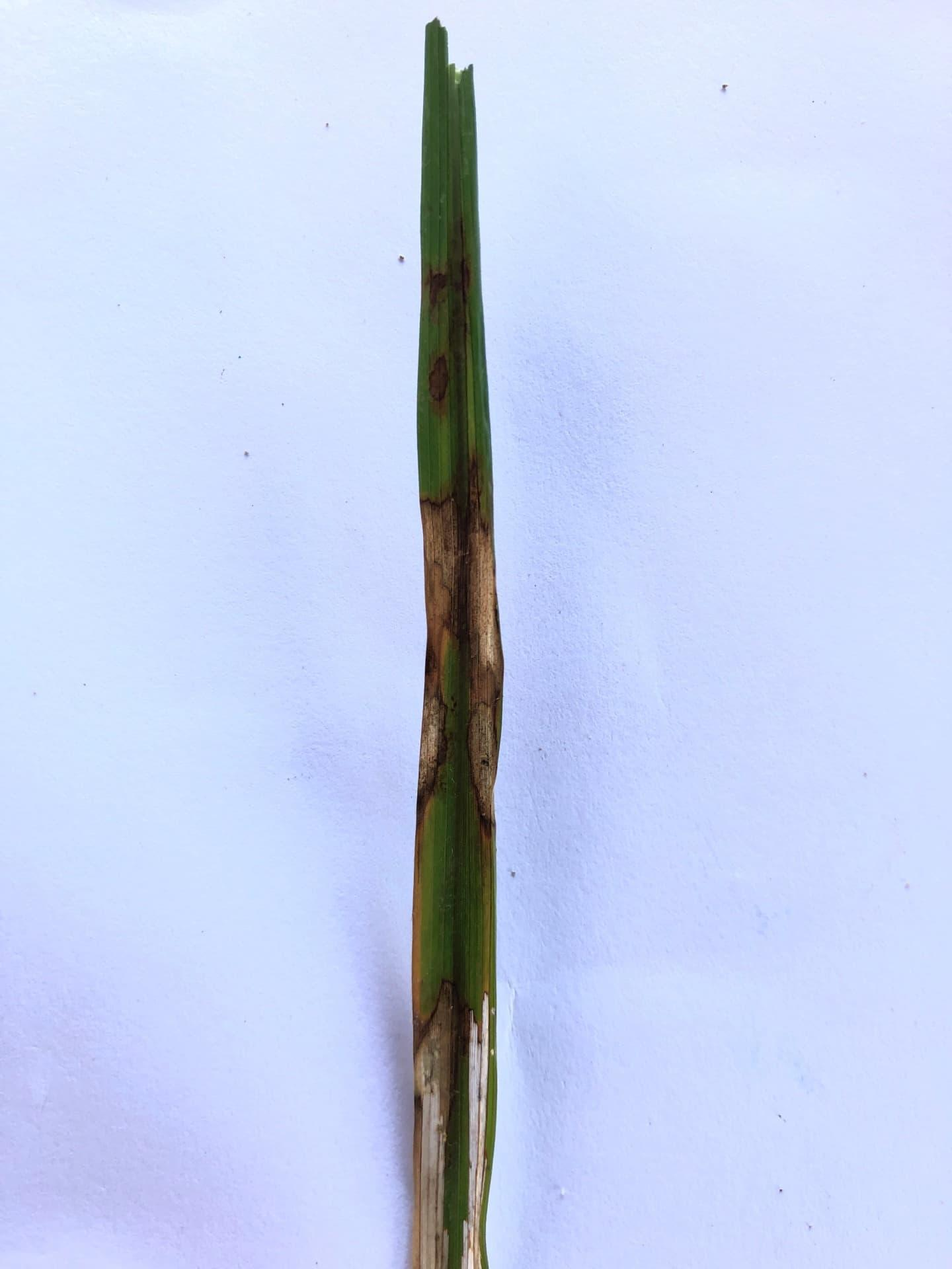Leaf Blight: (409, 496, 496, 1268), (468, 418, 503, 841), (426, 357, 452, 407), (428, 266, 446, 324)
